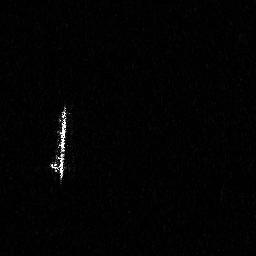ship: (49, 104, 70, 188)
